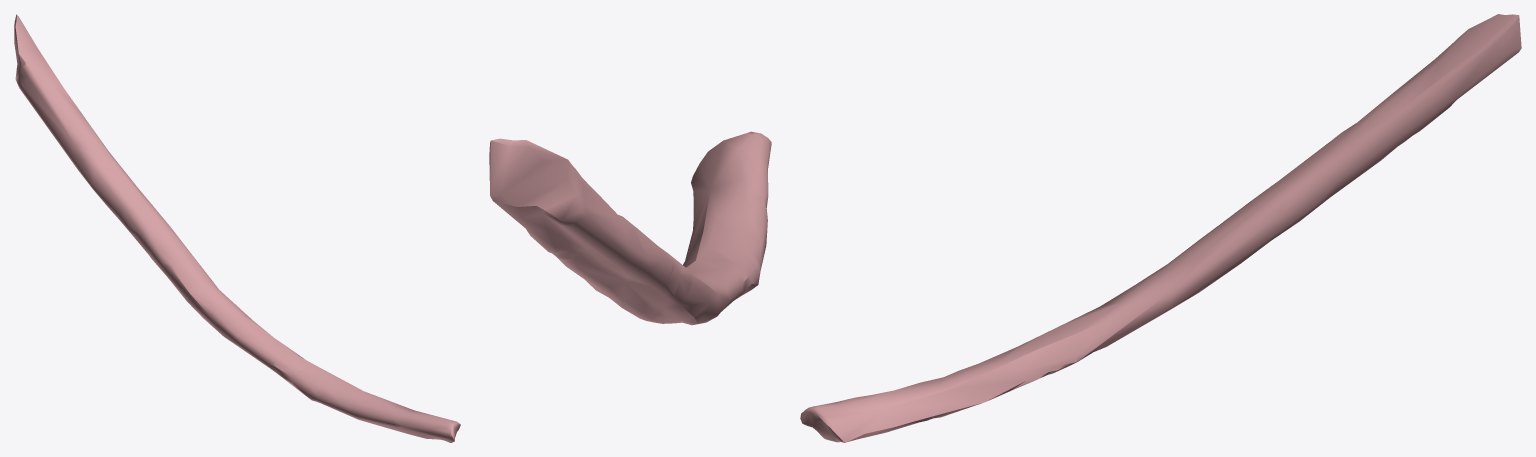
Rendered from fma46442_fj2553.glb.
The picture shows the model from 3 angles, left to right: view 1: azimuth 30°, elevation 25°; view 2: azimuth 150°, elevation 25°; view 3: azimuth 270°, elevation 25°; orthographic projection. The views are drawn at different scales.
Parts seen in each view (by area): view 1: FMA46442_FJ2553; view 2: FMA46442_FJ2553; view 3: FMA46442_FJ2553.
Part boxes in pixels (x1,y1,x2,y2): FMA46442_FJ2553: (14,14,460,442); FMA46442_FJ2553: (489,131,771,325); FMA46442_FJ2553: (800,14,1521,442).
Size of the model in its own units: 0.0253 by 0.0337 by 0.0662.
